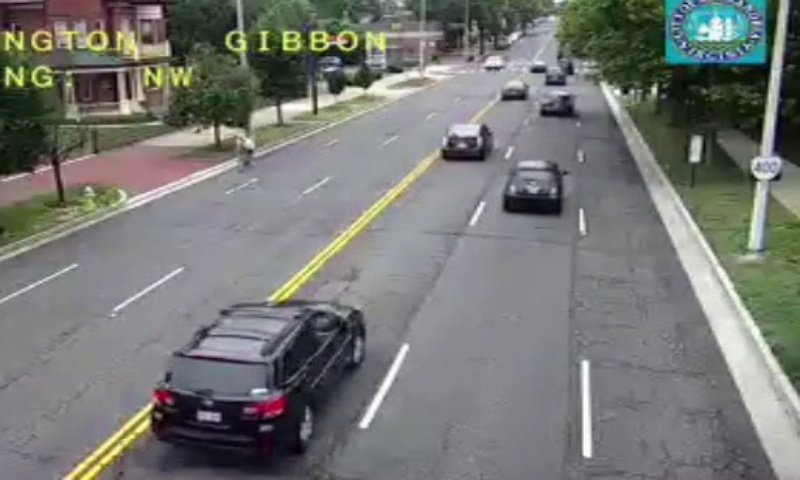car: (152, 300, 365, 447), (502, 160, 561, 204), (440, 124, 490, 159), (540, 90, 574, 115)
